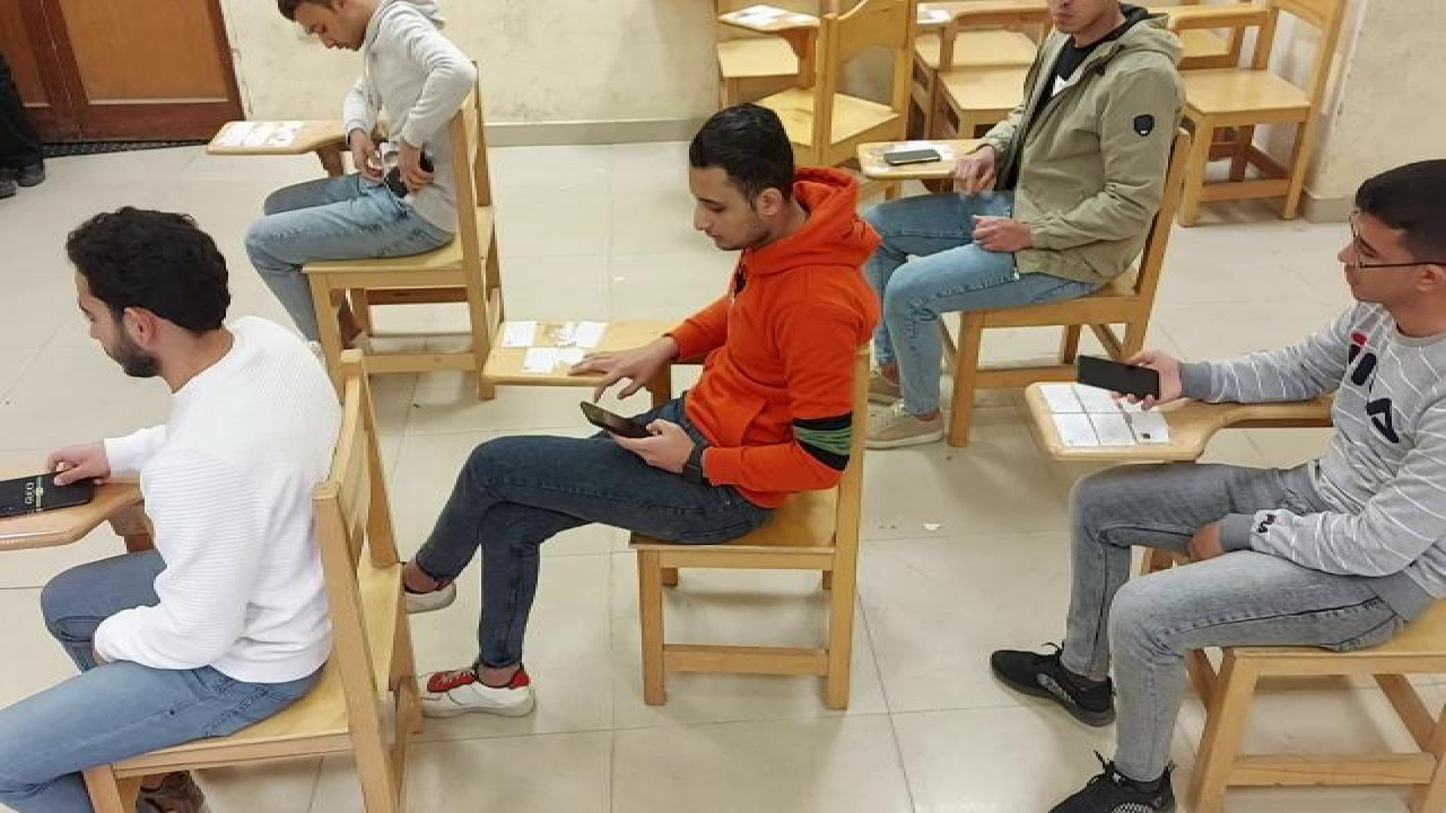phone: (1, 471, 110, 513), (577, 398, 670, 446), (1075, 352, 1164, 402), (381, 160, 442, 198), (886, 143, 947, 171)
